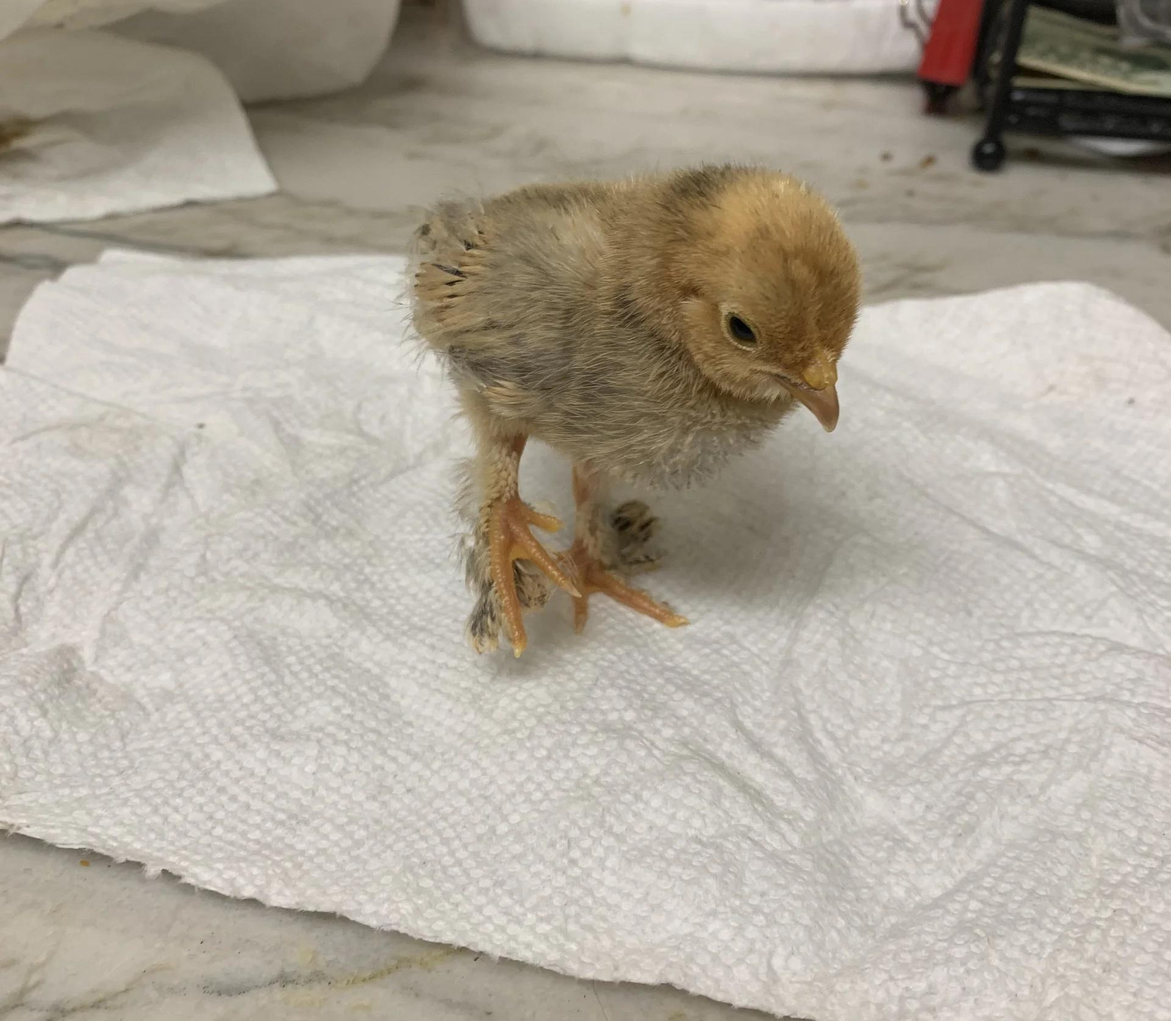AbNormal: (407, 161, 858, 656)
